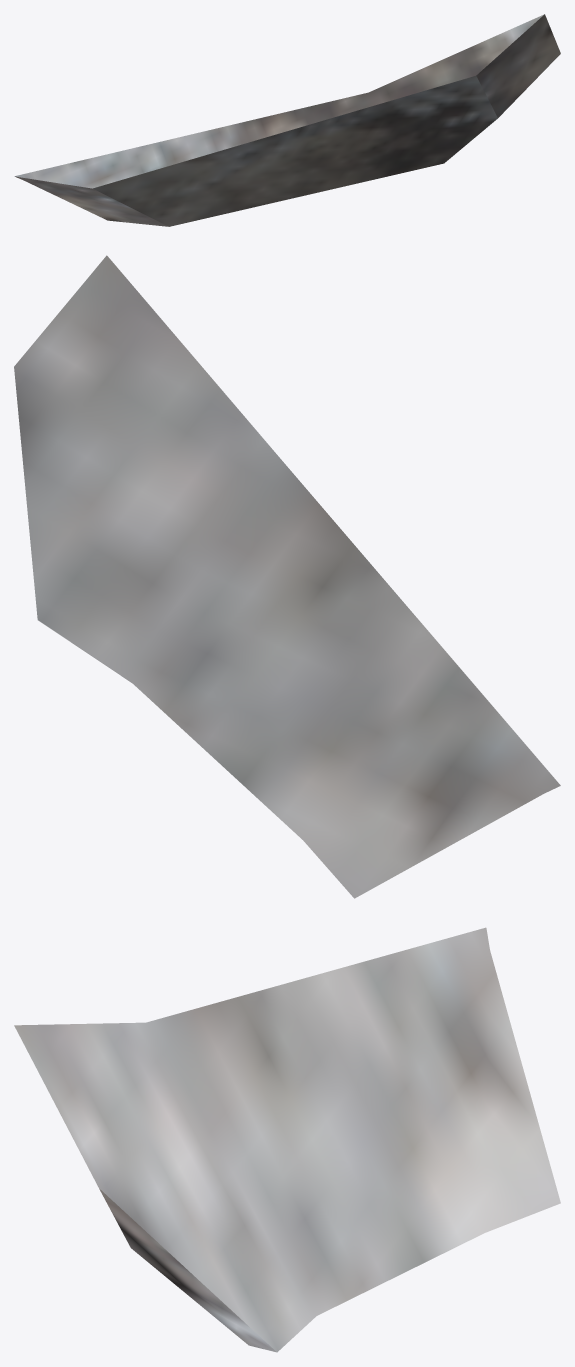
The model's file is Asteroid_Large_001_02_006_03_005.fbx.
3 renders of one model, top to bottom at view 1: azimuth 30°, elevation 25°; view 2: azimuth 150°, elevation 25°; view 3: azimuth 270°, elevation 25°, orthographic. The views are drawn at different scales.
Parts seen in each view (by area): view 1: Asteroid_Large_001_02_006_03_005; view 2: Asteroid_Large_001_02_006_03_005; view 3: Asteroid_Large_001_02_006_03_005.
Boxes of the visible parts, x1,y1,x2,y2 form: Asteroid_Large_001_02_006_03_005: [14, 14, 560, 226]; Asteroid_Large_001_02_006_03_005: [14, 255, 560, 898]; Asteroid_Large_001_02_006_03_005: [14, 927, 560, 1352].
Bounding box in the file's own units: 2.94 × 1.48 × 1.59.
